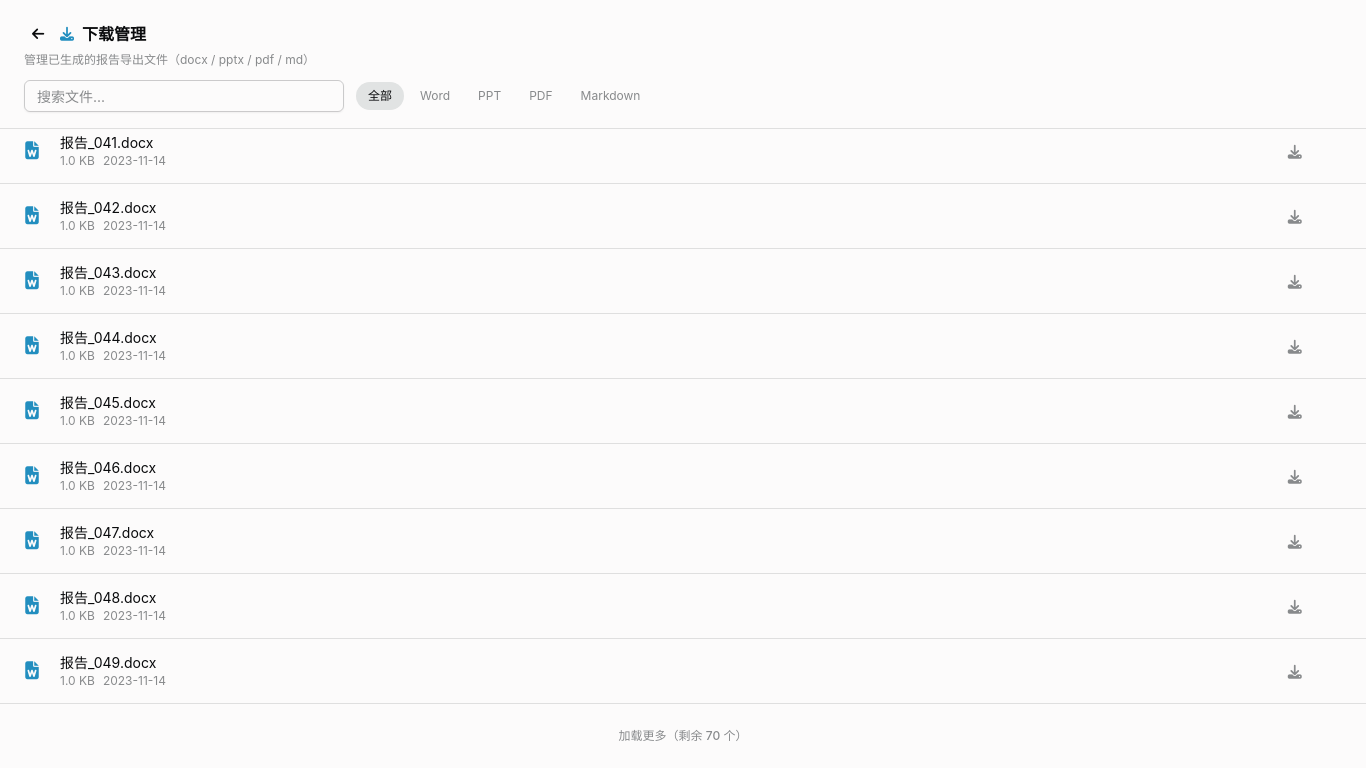
Scenario: 下载中心交互（add-download-center Task 3） › 千行列表增量渲染：首屏 50 行，加载更多后翻页
(page scrolled)
Click the button with test id "load-more": (683, 736) [607,720,759,752]
(page scrolled)
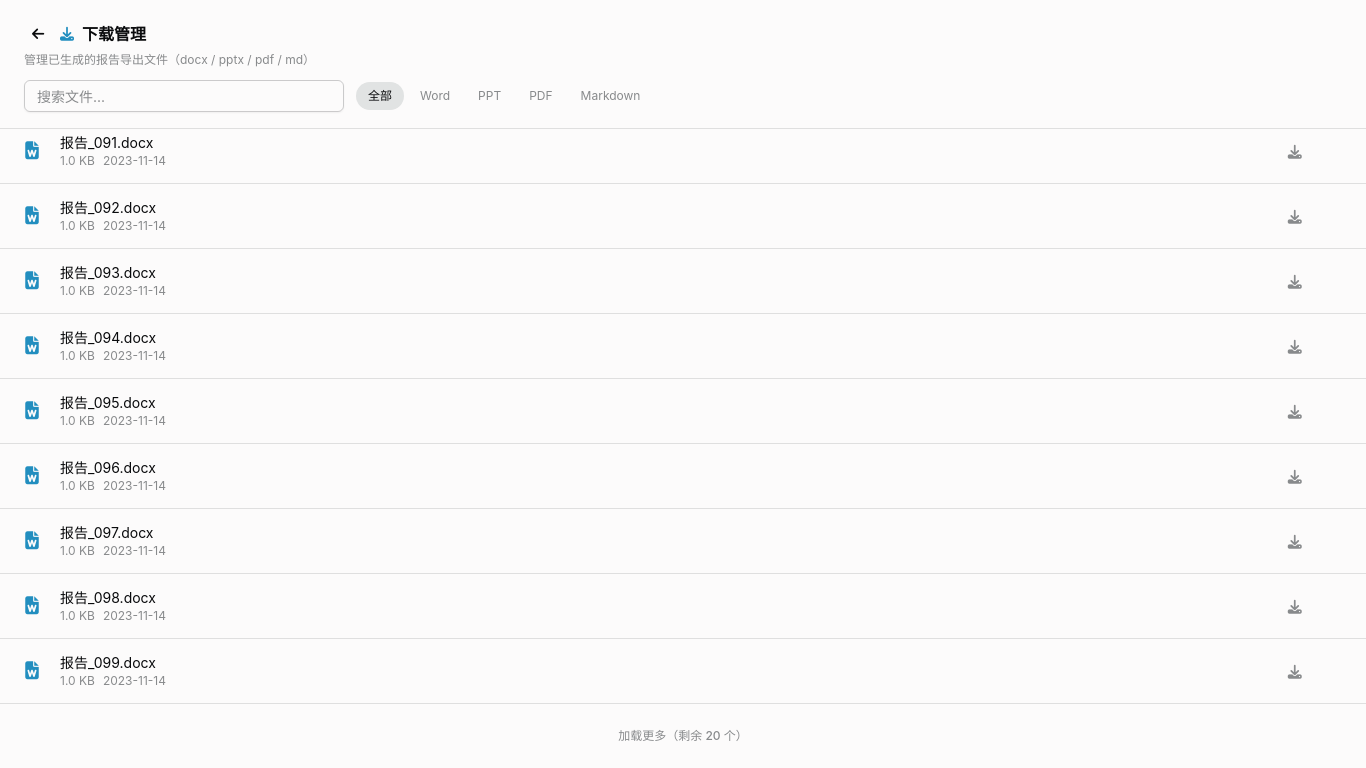
Click the button with test id "load-more": (683, 736) [606,720,760,752]
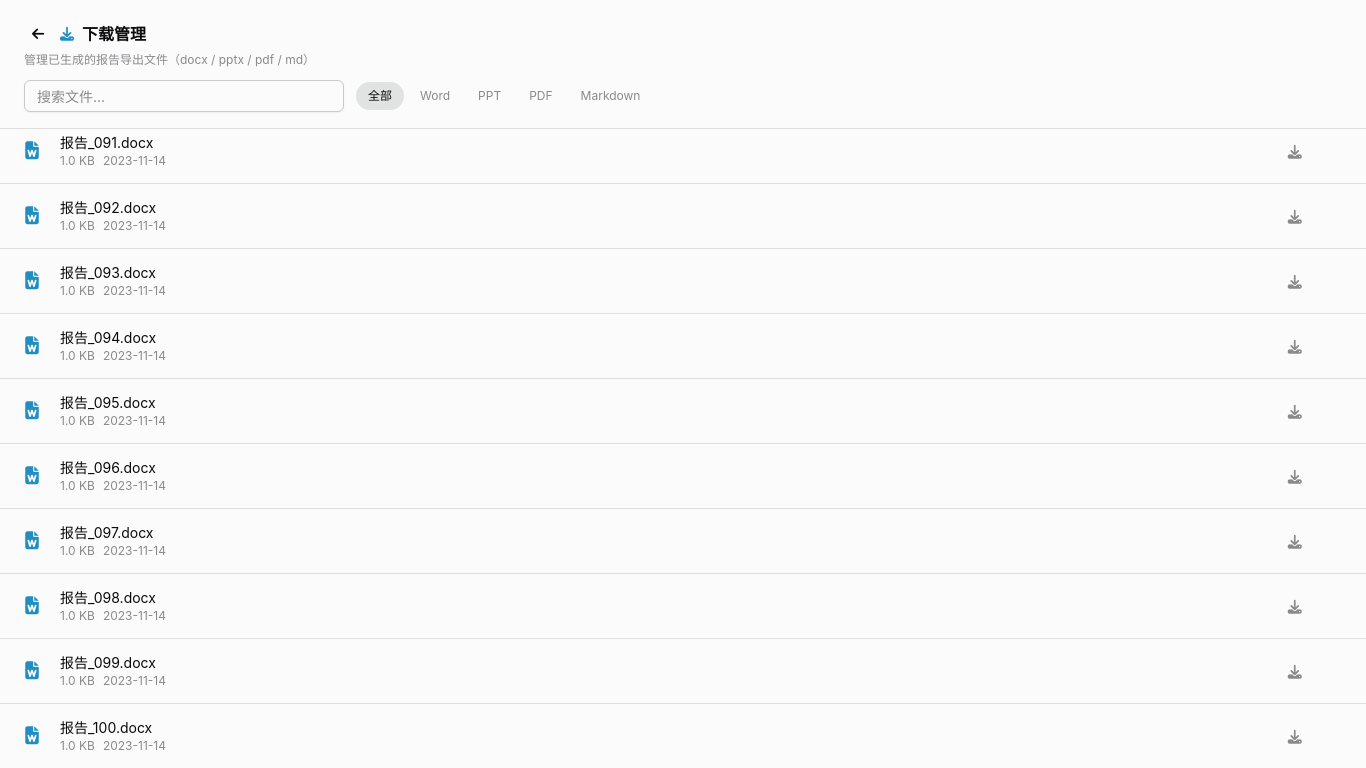
Expected: the button with test id "load-more" is gone
